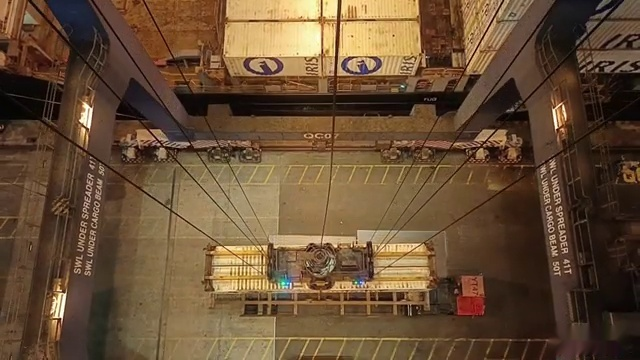container: (195, 238, 444, 306), (225, 21, 428, 75), (223, 1, 424, 37), (222, 0, 424, 23), (222, 0, 421, 20), (455, 3, 640, 24), (209, 0, 435, 17), (225, 0, 422, 19)
guide_mark: (66, 338, 560, 360), (105, 164, 539, 182)
spreader: (198, 243, 448, 303)
target_slot: (190, 267, 437, 322)
